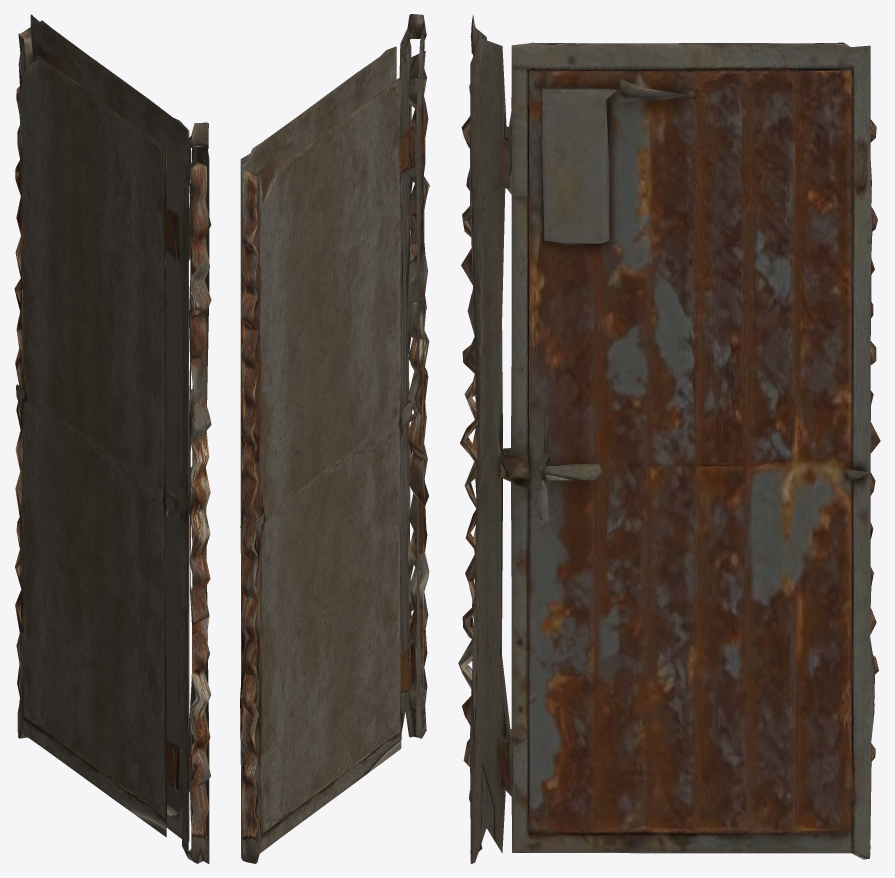
Rendered from bb_door_metal.glb.
3 renders of one model, left to right at view 1: azimuth 30°, elevation 25°; view 2: azimuth 150°, elevation 25°; view 3: azimuth 270°, elevation 25°, orthographic. The views are drawn at different scales.
Parts seen in each view (by area): view 1: bb_door_metal; view 2: bb_door_metal; view 3: bb_door_metal.
Boxes of the visible parts, left/top/right/bottom form: bb_door_metal: left=14, top=14, right=211, bottom=863; bb_door_metal: left=240, top=14, right=429, bottom=863; bb_door_metal: left=458, top=15, right=880, bottom=863.
Size of the model in its own units: 0.0599 by 2.2 by 0.9999.
Materials: 1 (1 with a texture image).
